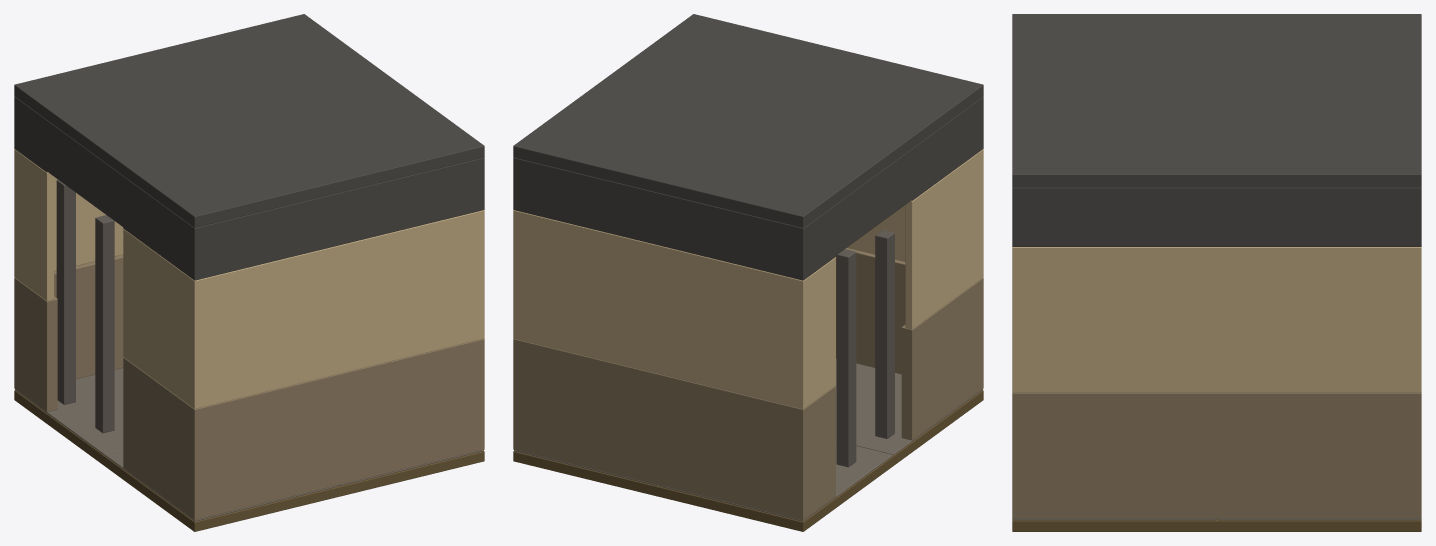
File: gen-bond.glb
The picture shows the model from 3 angles, left to right: view 1: azimuth 30°, elevation 25°; view 2: azimuth 150°, elevation 25°; view 3: azimuth 270°, elevation 25°; orthographic projection. The views are drawn at different scales.
Parts seen in each view (by area): view 1: THE BOND; view 2: THE BOND; view 3: THE BOND.
Boxes of the visible parts, bbox=[...] form: THE BOND: bbox=[14, 14, 484, 531]; THE BOND: bbox=[513, 14, 983, 531]; THE BOND: bbox=[1012, 14, 1421, 531].
Bounding box in the file's own units: 2.6 × 2.7 × 2.8.
